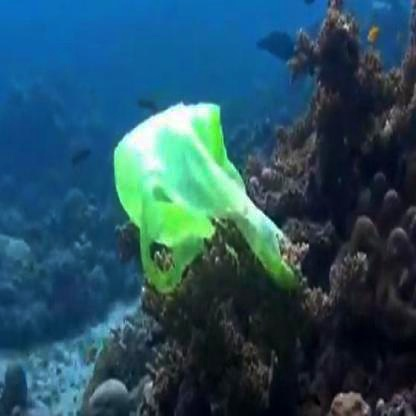plastic: (93, 134, 298, 315)
